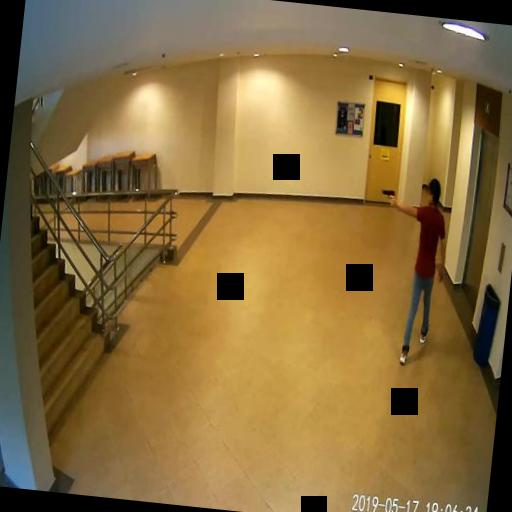Handgun: (376, 184, 401, 206)
